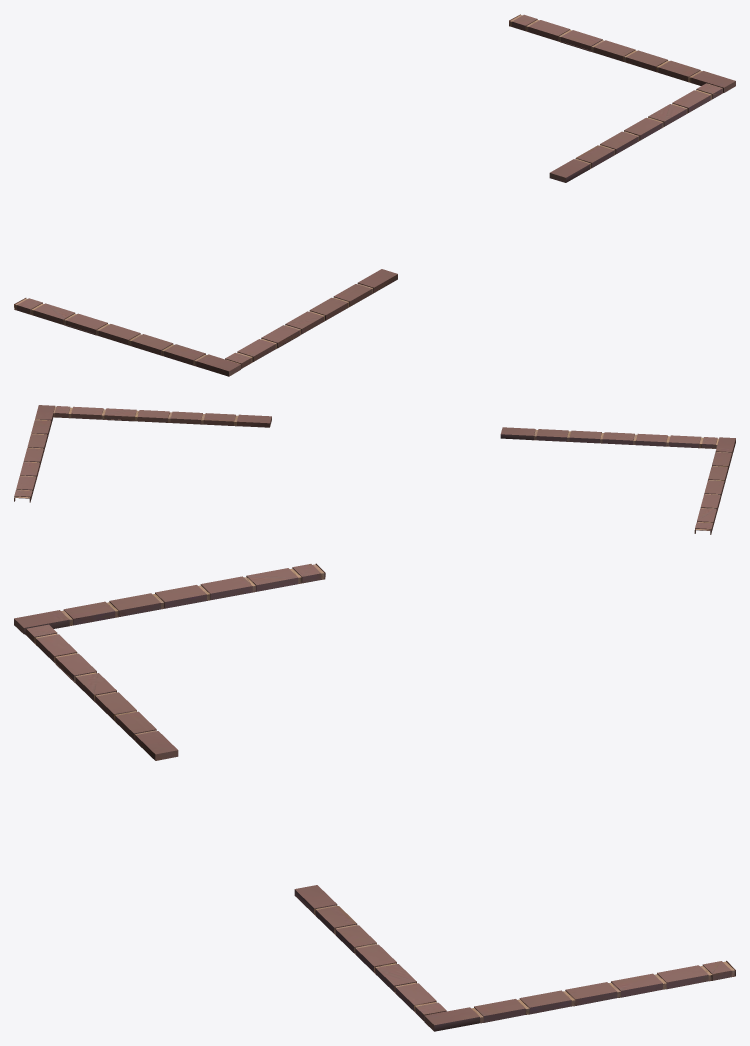
File: templewateredge.glb
3 views of the same model, one above another, from view 1: azimuth 30°, elevation 25°; view 2: azimuth 150°, elevation 25°; view 3: azimuth 270°, elevation 25° (orthographic). The views are drawn at different scales.
Visible parts, largest first — view 1: temple.002; view 2: temple.002; view 3: temple.002.
Part boxes in pixels (<box>): temple.002: <box>14,14,735,376</box>; temple.002: <box>14,405,735,534</box>; temple.002: <box>14,563,735,1031</box>.
Size of the model in its own units: 21.92 by 0.1549 by 14.47.
1 material, 1 textured.
